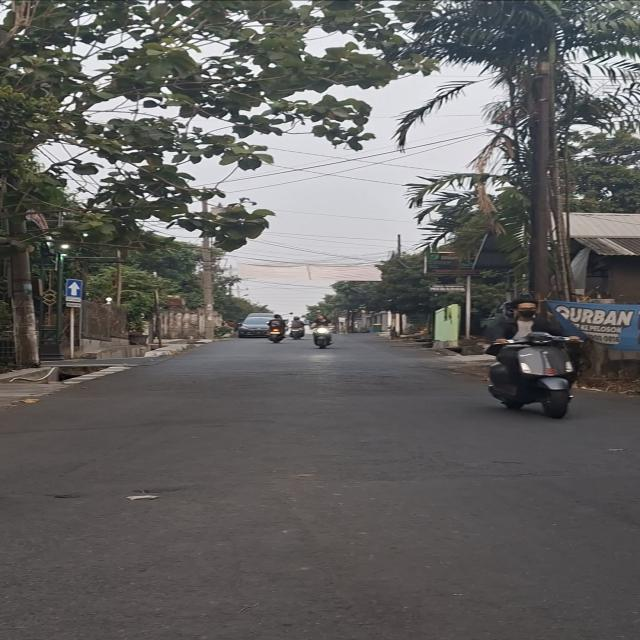WithoutHelmet: (481, 298, 584, 399), (306, 314, 335, 343), (267, 314, 290, 339), (289, 316, 308, 336)
